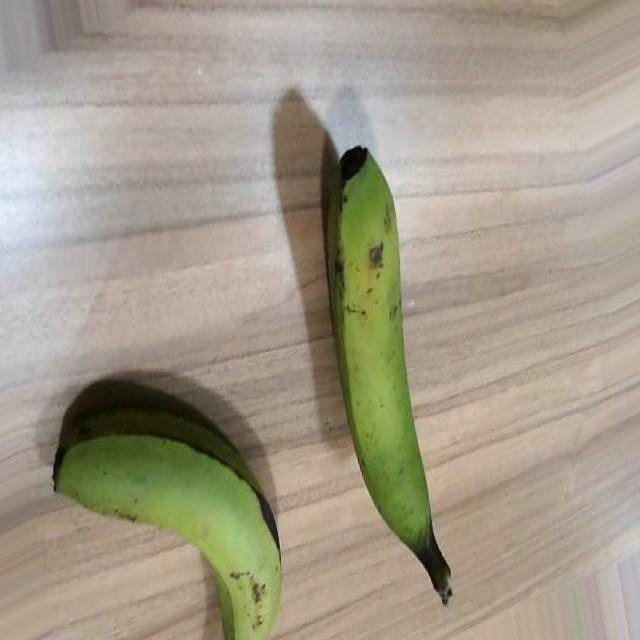Unripe: (324, 147, 458, 609), (51, 404, 282, 640)
